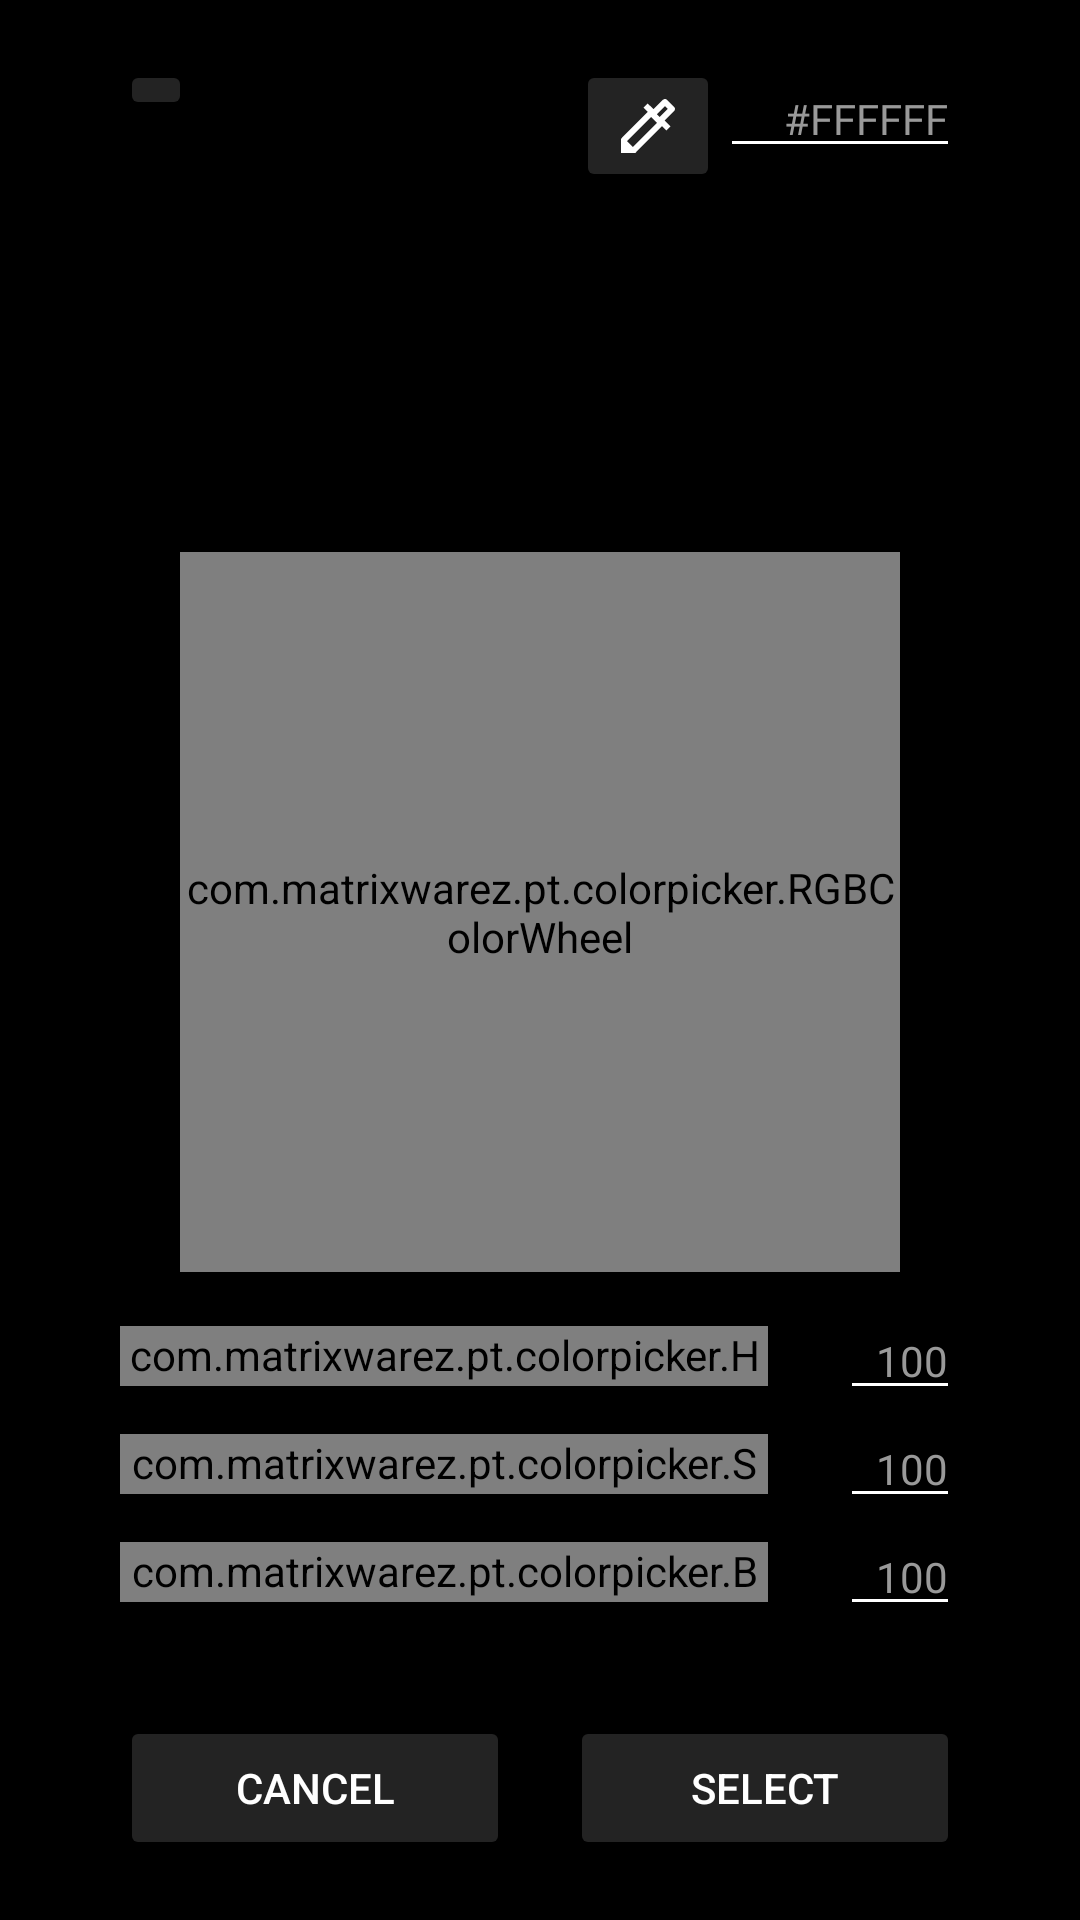

Icons on this 1080*1920 Android screen, each with its box as (x1, y1, x2, y2):
colorize: (588, 78, 708, 174)
